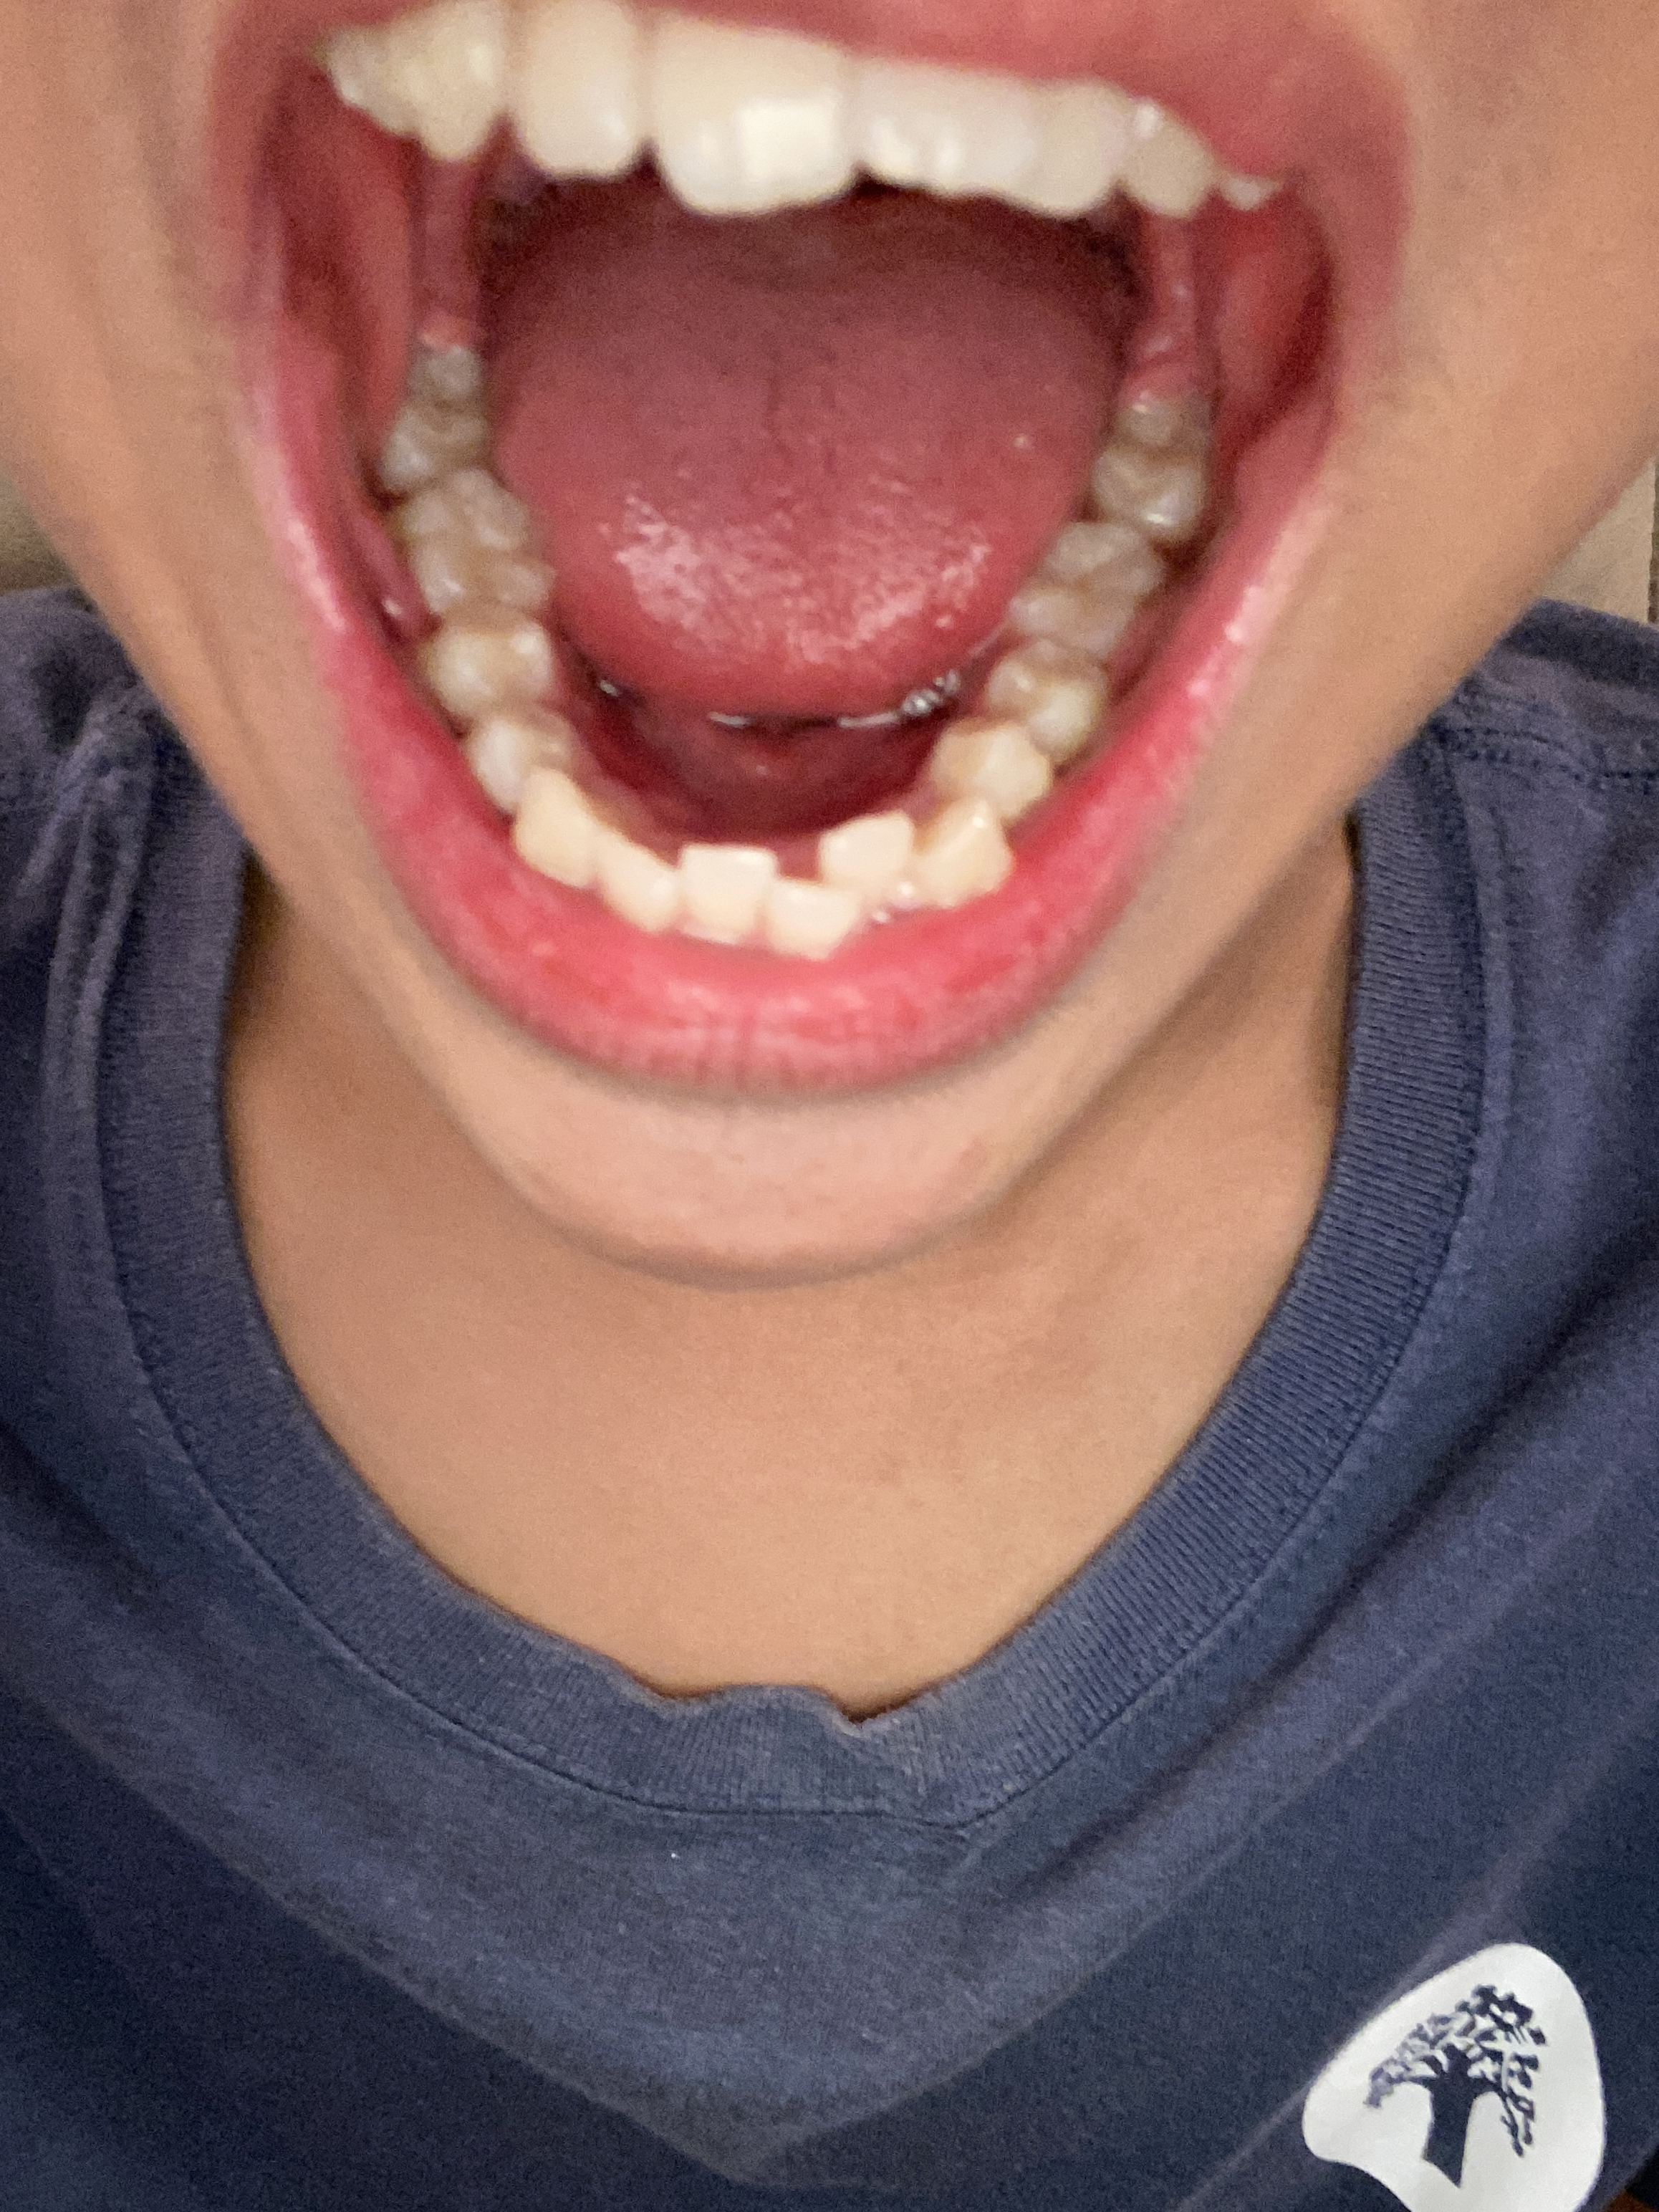teeth: (650, 42, 852, 206), (505, 0, 645, 167), (868, 68, 1044, 185), (385, 496, 549, 606), (1014, 523, 1157, 644), (429, 606, 566, 730), (375, 17, 507, 143), (1096, 397, 1206, 528), (983, 644, 1096, 763), (1028, 85, 1134, 206), (404, 348, 491, 484), (465, 709, 570, 813), (685, 841, 789, 944), (936, 719, 1053, 810), (1131, 108, 1222, 221), (324, 24, 403, 146), (821, 808, 911, 913), (518, 775, 603, 873), (596, 841, 666, 944), (922, 810, 1002, 885), (770, 892, 852, 963)
